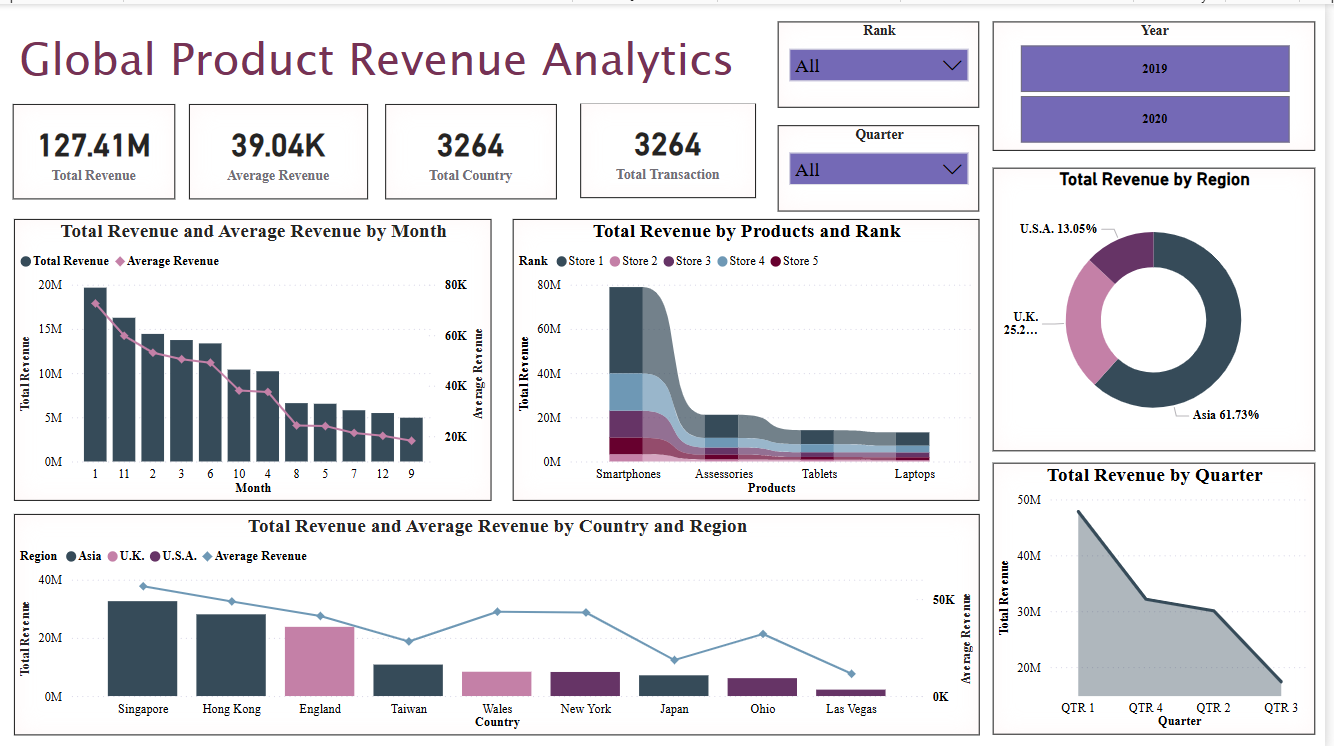

Layout of this report page (visuals, bound fields, positions):
{"tool":"powerbi","page":{"name":"Page 1","canvas":[1280,720],"ordinal":0},"visuals":[{"type":"card","fields":{"Values":["Measure.Total Revenue"]},"box":[13.3,96.5,156.8,91.7],"z":0},{"type":"card","fields":{"Values":["Measure.Average Revenue"]},"box":[183.4,96.5,172.5,91.7],"z":1000},{"type":"card","fields":{"Values":["Measure.Total Country"]},"box":[372.8,96.5,165.3,91.7],"z":2000},{"type":"card","fields":{"Values":["Measure.Total Transaction"]},"box":[561.1,95.8,169.4,91.7],"z":3000},{"type":"donutChart","fields":{"Y":["Measure.Total Revenue"],"Category":["Sheet1.Region"]},"box":[959.7,158.3,311.1,273.6],"z":4000},{"type":"lineStackedColumnComboChart","fields":{"Y":["Measure.Total Revenue"],"Category":["Sheet1.Country"],"Y2":["Measure.Average Revenue"],"Series":["Sheet1.Region"]},"box":[13.9,491.7,931.9,213.9],"z":5000},{"type":"stackedAreaChart","fields":{"Y":["Measure.Total Revenue"],"Category":["Sheet1.Quarter"]},"box":[959.7,443.1,311.1,262.5],"z":6000},{"type":"ribbonChart","fields":{"Category":["Sheet1.Products"],"Y":["Measure.Total Revenue"],"Series":["Sheet1.Rank"]},"box":[495.8,206.9,450,272.2],"z":7000},{"type":"lineStackedColumnComboChart","fields":{"Y":["Measure.Total Revenue"],"Y2":["Measure.Average Revenue"],"Category":["Sheet1.Month"]},"box":[13.9,206.9,461.1,272.2],"z":8000},{"type":"slicer","title":"Year","fields":{"Values":["Sheet1.Years"]},"box":[959.7,16.7,311.1,125],"z":9000},{"type":"slicer","title":"Quarter","fields":{"Values":["Sheet1.Quarter"]},"box":[751.4,116.7,194.4,83.3],"z":10000},{"type":"slicer","title":"Rank","fields":{"Values":["Sheet1.Rank"]},"box":[751.4,16.7,194.4,83.3],"z":11000},{"type":"textbox","box":[13.9,16.7,727.8,79.2],"z":12000}]}

Visuals, with their boxes in screenshot pixels (x1, y1, x2, y2), scaled from the page's 1280x720 canvas onto the 1334x746 screenshot:
card - Measure.Total Revenue: l=14, t=100, r=177, b=195
card - Measure.Average Revenue: l=191, t=100, r=371, b=195
card - Measure.Total Country: l=389, t=100, r=561, b=195
card - Measure.Total Transaction: l=585, t=99, r=761, b=194
donutChart - Measure.Total Revenue x Sheet1.Region: l=1000, t=164, r=1324, b=447
lineStackedColumnComboChart - Measure.Total Revenue x Sheet1.Country: l=14, t=509, r=986, b=731
stackedAreaChart - Measure.Total Revenue x Sheet1.Quarter: l=1000, t=459, r=1324, b=731
ribbonChart - Sheet1.Products x Measure.Total Revenue: l=517, t=214, r=986, b=496
lineStackedColumnComboChart - Measure.Total Revenue x Measure.Average Revenue: l=14, t=214, r=495, b=496
"Year" slicer: l=1000, t=17, r=1324, b=147
"Quarter" slicer: l=783, t=121, r=986, b=207
"Rank" slicer: l=783, t=17, r=986, b=104
textbox: l=14, t=17, r=773, b=99
